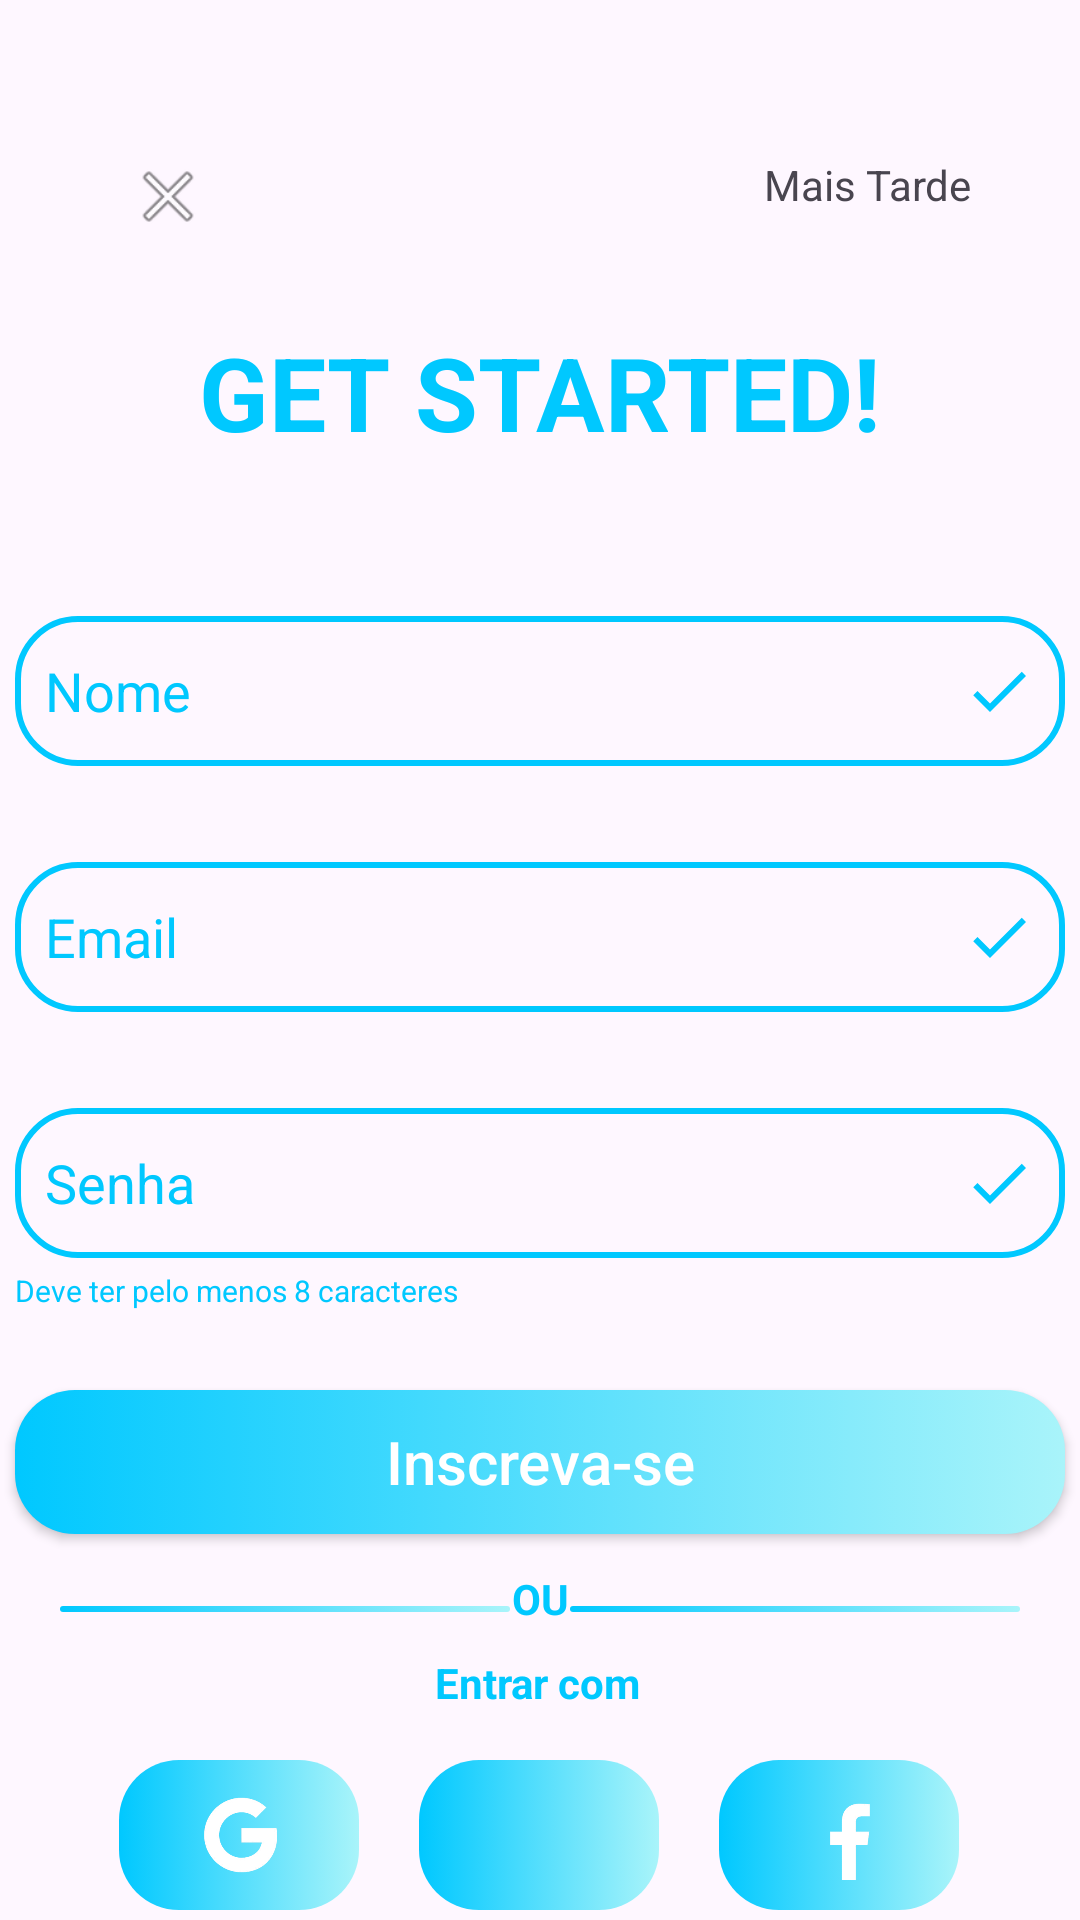

Point at icon controls on the screen. Image size 1080×1920, points as point (x, y).
close clear cancel: point (168, 196)
